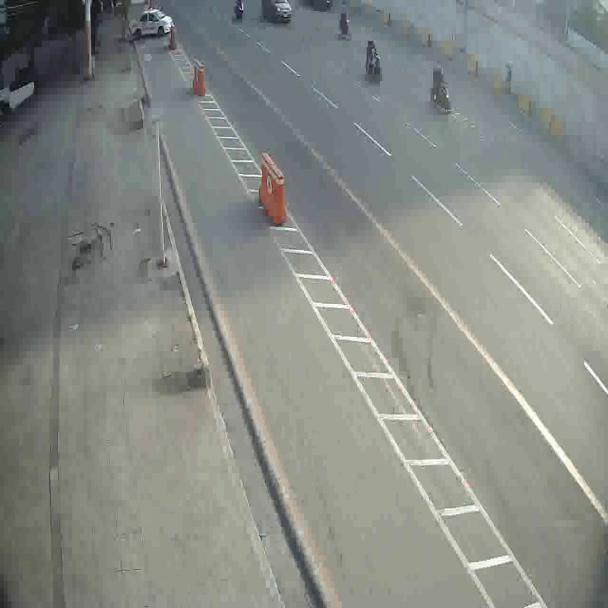motorcyclist: (428, 62, 452, 114), (363, 36, 382, 80)
vehicle: (129, 6, 175, 46), (260, 1, 292, 24)
